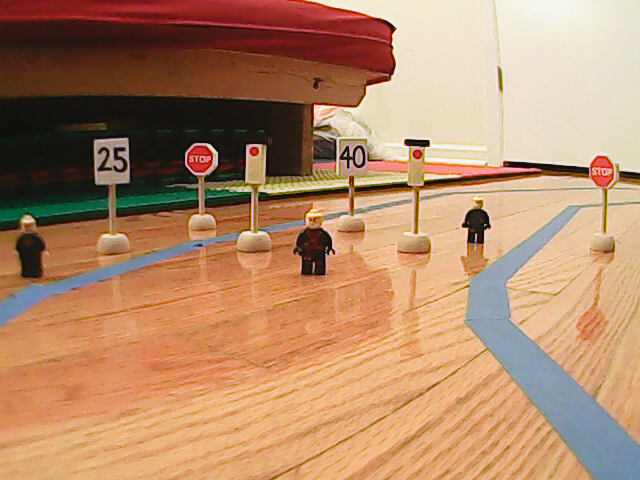Person: (293, 209, 336, 277), (18, 214, 51, 279), (462, 196, 494, 245)
Red Traffic Light: (403, 139, 432, 191), (243, 137, 268, 188)
Speed Limit 25: (90, 137, 133, 187)
Speed Limit 40: (338, 135, 371, 180)
Stop Sign: (180, 142, 220, 177), (586, 155, 618, 188)
